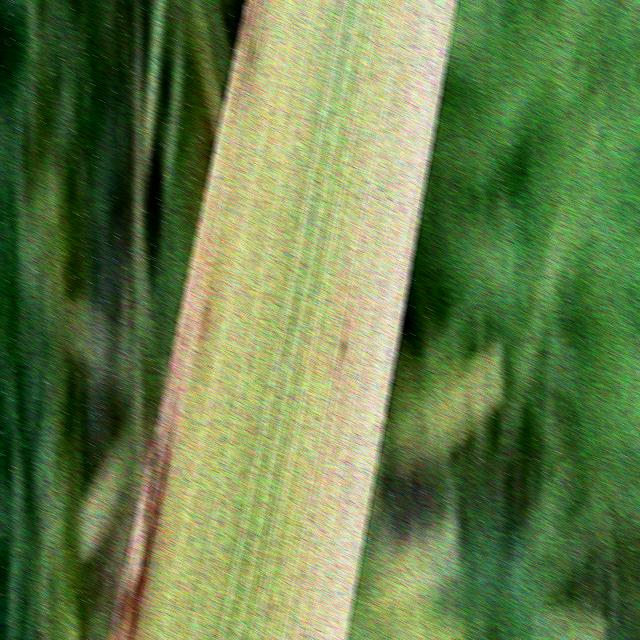LEAF BLAST: (110, 201, 207, 640)
